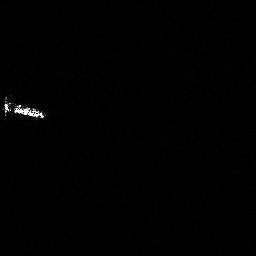ship: (2, 94, 49, 121)
